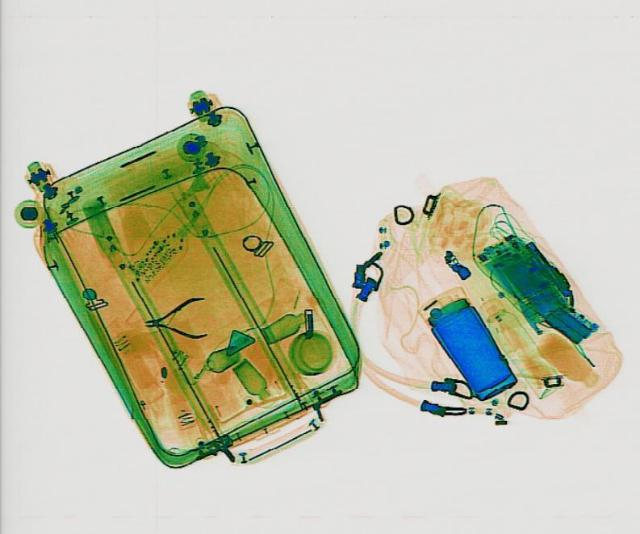Pliers: (144, 294, 206, 336)
